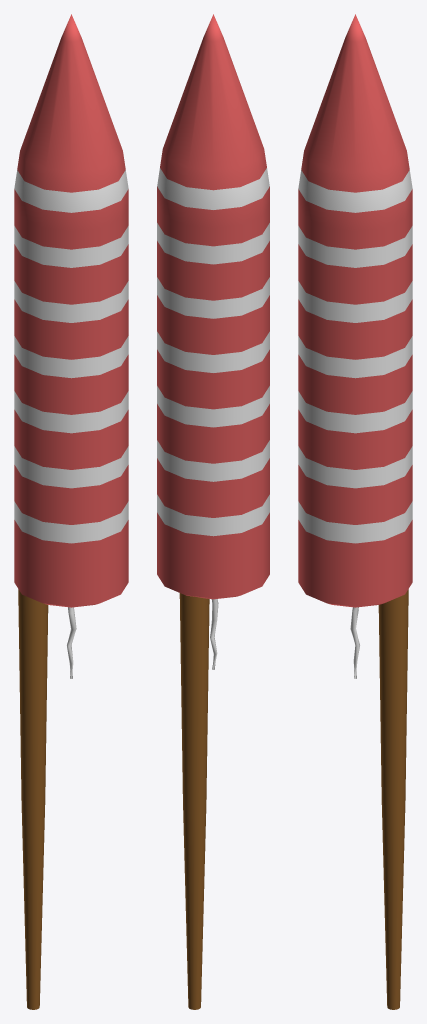
File: firework.fbx
3 views of the same model, side by side, from view 1: azimuth 90°, elevation 25°; view 2: azimuth 150°, elevation 25°; view 3: azimuth 270°, elevation 25° (orthographic).
Visible parts, largest first — view 1: Firework; view 2: Firework; view 3: Firework.
Boxes of the visible parts, box(x1,y1,x2,y2) form: Firework: box(14, 14, 128, 1009); Firework: box(157, 14, 269, 1009); Firework: box(298, 14, 412, 1009).
Size of the model in its own units: 0.945 by 9.06 by 0.945.
